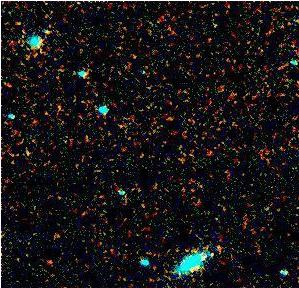star: (201, 235, 231, 265)
